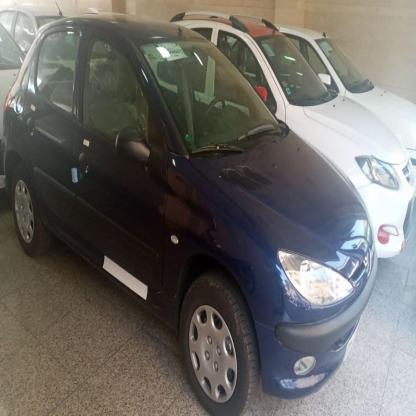Car: (2, 22, 382, 416), (177, 0, 416, 251), (283, 9, 416, 163)
